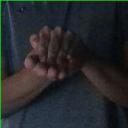hand: (29, 25, 86, 59), (24, 54, 92, 78)
